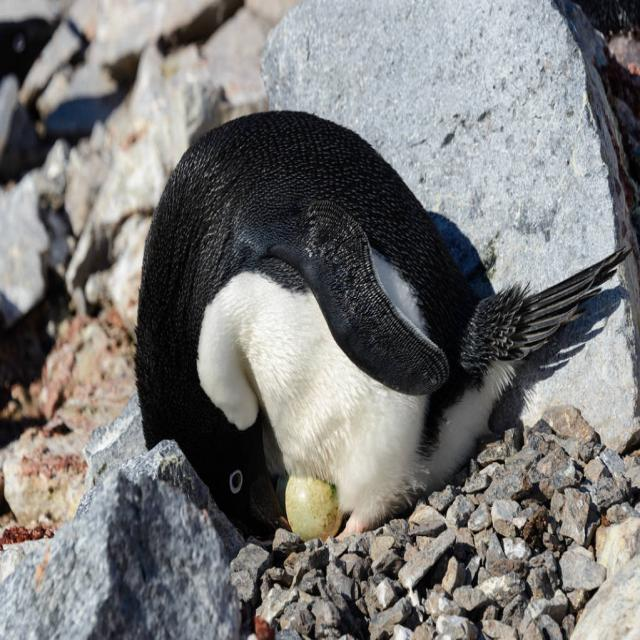Penguins: (128, 102, 617, 558)
